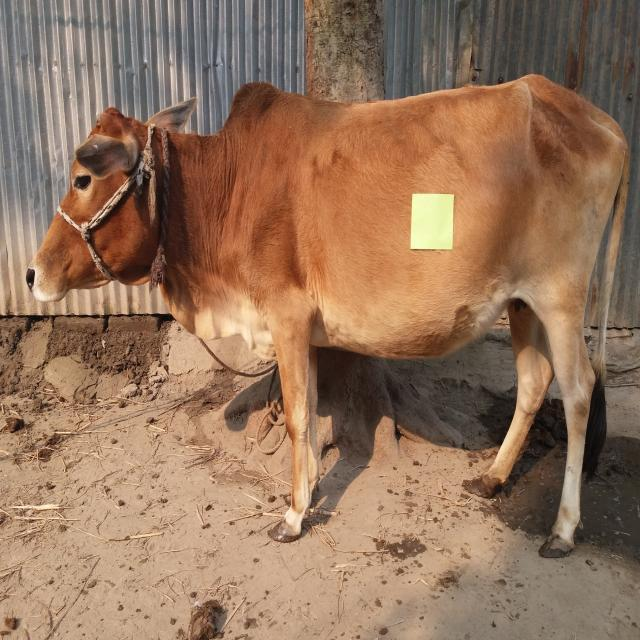badan_sapi: (234, 75, 625, 369)
sapi: (14, 62, 634, 570)
